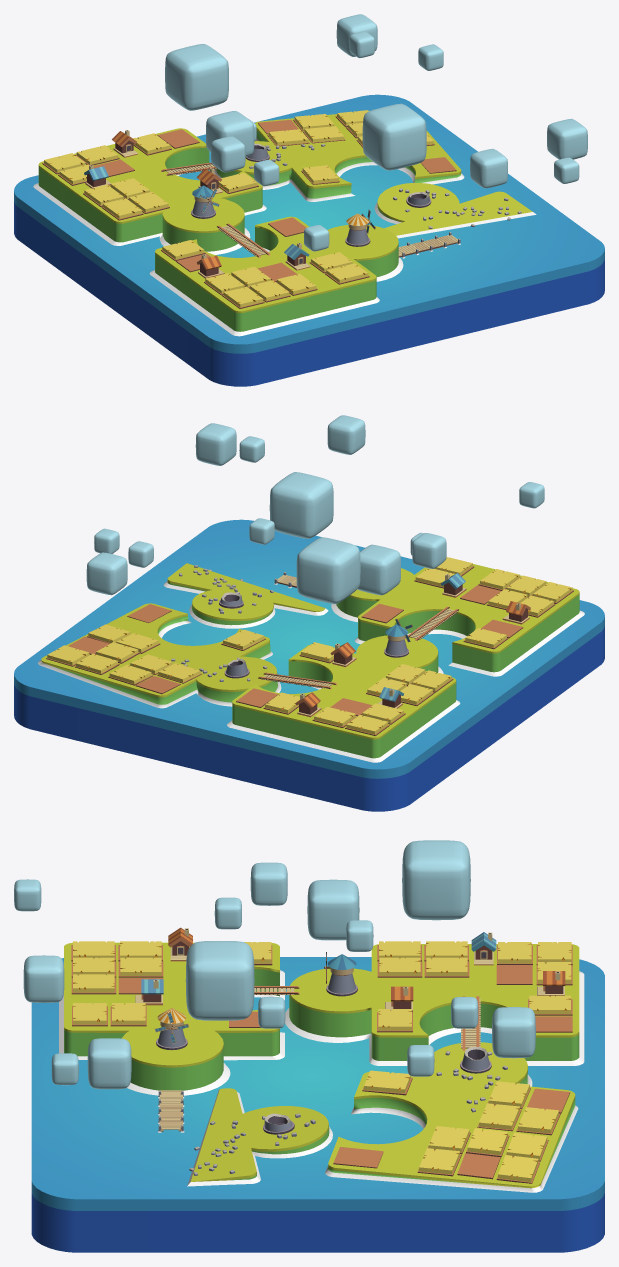
File: island-3.fbx
3 views of the same model, one above another, from view 1: azimuth 30°, elevation 25°; view 2: azimuth 150°, elevation 25°; view 3: azimuth 270°, elevation 25° (orthographic). The views are drawn at different scales.
Parts seen in each view (by area): view 1: pCube1, polySurface2, polySurface7, polySurface8, polySurface9, pCube109, pCube5, polySurface30, pCube110, pCube3, pCube165, pCube112 (+27 smaller); view 2: pCube1, polySurface7, polySurface2, polySurface8, polySurface9, pCube5, pCube109, polySurface30, polySurface31, pCube3, pCube35, pCube110 (+14 smaller); view 3: pCube1, polySurface7, polySurface8, polySurface2, polySurface9, pCube5, pCube109, polySurface31, polySurface30, pCube3, pCube110, pCube35 (+39 smaller).
Boxes of the visible parts, x1=… form: pCube1: x1=14, y1=94, x2=604, y2=386; polySurface2: x1=149, y1=216, x2=403, y2=336; polySurface7: x1=33, y1=128, x2=266, y2=254; polySurface8: x1=214, y1=111, x2=464, y2=201; polySurface9: x1=374, y1=183, x2=536, y2=238; pCube109: x1=362, y1=103, x2=426, y2=170; pCube5: x1=165, y1=44, x2=228, y2=110; polySurface30: x1=258, y1=114, x2=345, y2=146; pCube110: x1=547, y1=118, x2=587, y2=159; pCube3: x1=206, y1=111, x2=254, y2=156; pCube165: x1=470, y1=148, x2=507, y2=188; pCube112: x1=211, y1=136, x2=245, y2=172; pCube1: x1=14, y1=519, x2=604, y2=811; polySurface7: x1=227, y1=635, x2=460, y2=762; polySurface2: x1=331, y1=564, x2=584, y2=676; polySurface8: x1=38, y1=603, x2=281, y2=708; polySurface9: x1=163, y1=563, x2=328, y2=628; pCube5: x1=296, y1=537, x2=360, y2=604; pCube109: x1=269, y1=472, x2=333, y2=538; polySurface30: x1=108, y1=654, x2=201, y2=693; polySurface31: x1=46, y1=636, x2=139, y2=674; pCube3: x1=357, y1=544, x2=400, y2=595; pCube35: x1=86, y1=552, x2=127, y2=595; pCube110: x1=195, y1=423, x2=236, y2=465; pCube1: x1=31, y1=957, x2=604, y2=1252; polySurface7: x1=285, y1=944, x2=584, y2=1065; polySurface8: x1=325, y1=1042, x2=578, y2=1192; polySurface2: x1=59, y1=942, x2=284, y2=1095; polySurface9: x1=187, y1=1088, x2=332, y2=1186; pCube5: x1=402, y1=840, x2=470, y2=920; pCube109: x1=185, y1=941, x2=254, y2=1020; polySurface31: x1=457, y1=1128, x2=548, y2=1183; polySurface30: x1=477, y1=1081, x2=570, y2=1135; pCube3: x1=307, y1=879, x2=359, y2=940; pCube110: x1=87, y1=1038, x2=131, y2=1089; pCube35: x1=492, y1=1007, x2=535, y2=1058.
Bounding box in the file's own units: 4.33 × 2.02 × 4.46.
Materials: 6 (4 with a texture image).
